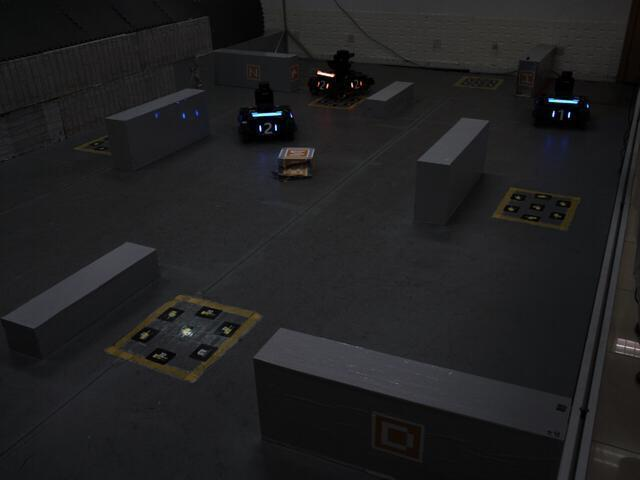armor: (251, 116, 284, 139), (547, 105, 575, 124), (313, 75, 333, 93), (346, 76, 365, 92)
